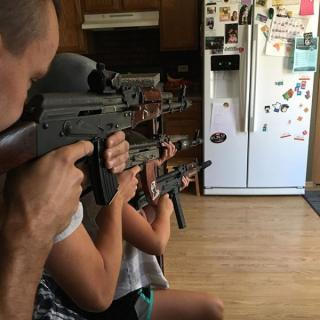gun: (3, 84, 195, 202), (85, 128, 202, 203), (130, 153, 213, 231)
